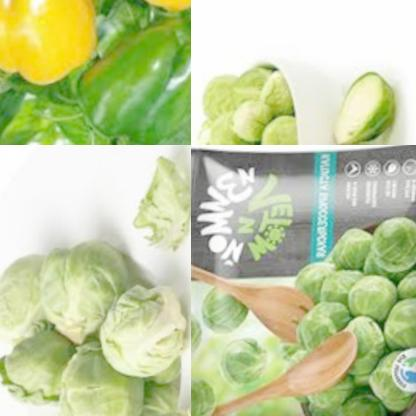bell pepper: (0, 0, 109, 86)
brus capusta: (287, 212, 416, 416), (191, 30, 325, 145), (83, 286, 191, 396), (116, 152, 191, 265), (29, 234, 119, 328), (0, 326, 88, 409), (47, 346, 134, 416), (333, 72, 398, 145), (0, 259, 50, 346), (196, 283, 250, 345), (218, 339, 268, 385), (191, 367, 224, 416), (191, 291, 210, 364)
